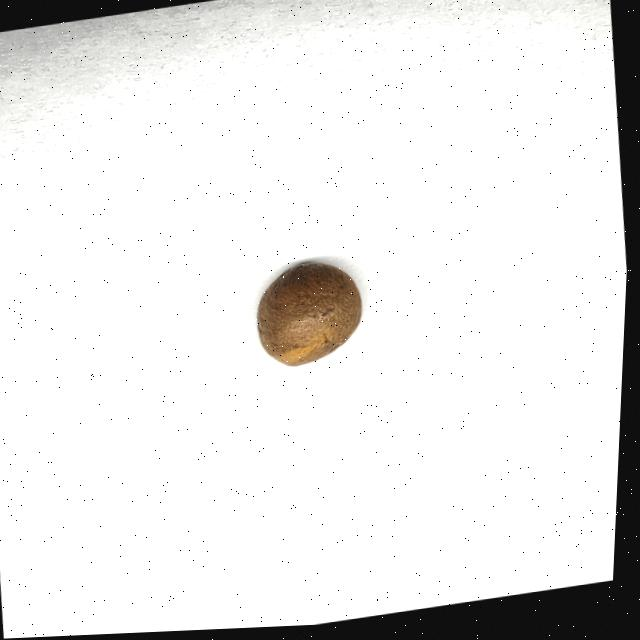Good bean: (254, 258, 369, 375)
